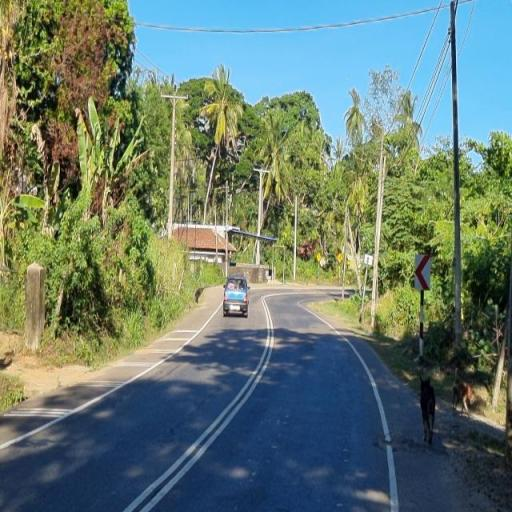double_white_line: (119, 294, 277, 511)
